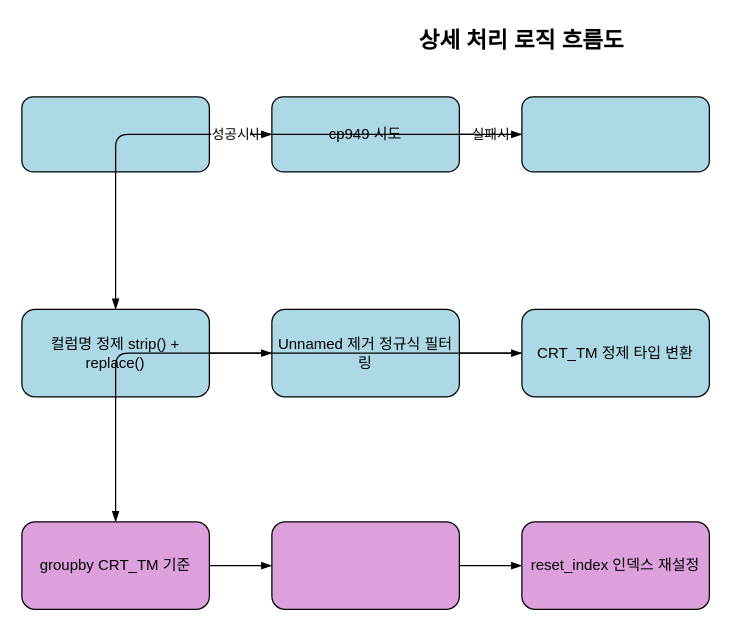
This 731x631 diagram has some shape labels left out. The shapes that lost their labels are listed below. From the top down, each one's box as (x1, y1, x2, y2) in pixels, then its label:
(21, 96, 209, 172): utf-8 시도
(521, 96, 709, 172): euc-kr 시도
(271, 521, 459, 609): first() 첫 번째 값 선택
